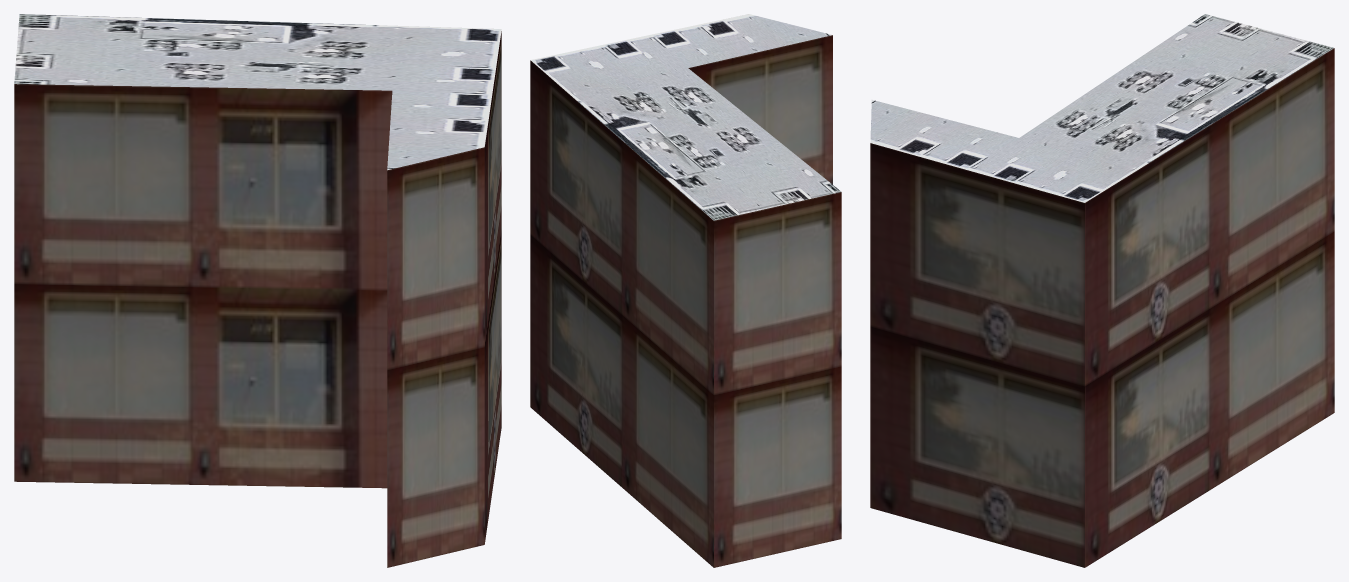
The model's file is ResTex__3434.fbx.
3 views of the same model, side by side, from view 1: azimuth 30°, elevation 25°; view 2: azimuth 150°, elevation 25°; view 3: azimuth 270°, elevation 25° (orthographic). The views are drawn at different scales.
Parts seen in each view (by area): view 1: CityEngineMaterial_13_m, CityEngineMaterial_8_m; view 2: CityEngineMaterial_13_m, CityEngineMaterial_8_m; view 3: CityEngineMaterial_13_m, CityEngineMaterial_8_m.
Part boxes in pixels (x1,y1,x2,y2): CityEngineMaterial_13_m: (14,31,501,567); CityEngineMaterial_8_m: (14,14,501,170); CityEngineMaterial_13_m: (530,35,841,567); CityEngineMaterial_8_m: (530,14,841,220); CityEngineMaterial_13_m: (870,48,1334,567); CityEngineMaterial_8_m: (870,14,1333,202).
Bounding box in the file's own units: 6.66 × 6 × 6.91.
Materials: 2 (2 with a texture image).
